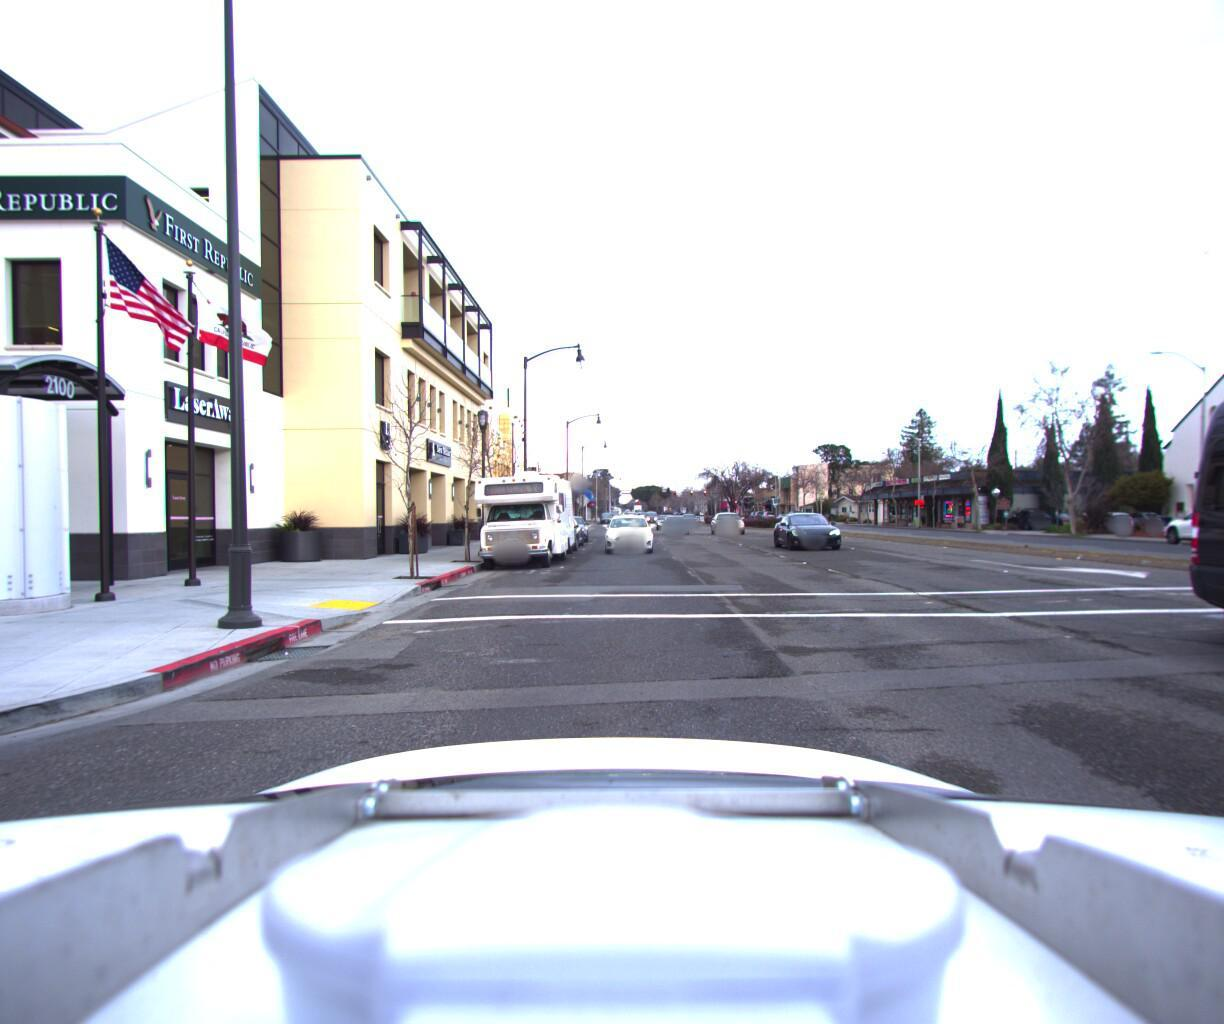car: (772, 506, 856, 548), (597, 506, 659, 552), (1002, 505, 1053, 528), (711, 508, 749, 531), (662, 511, 692, 533)
other_vehicle: (460, 462, 577, 568)
